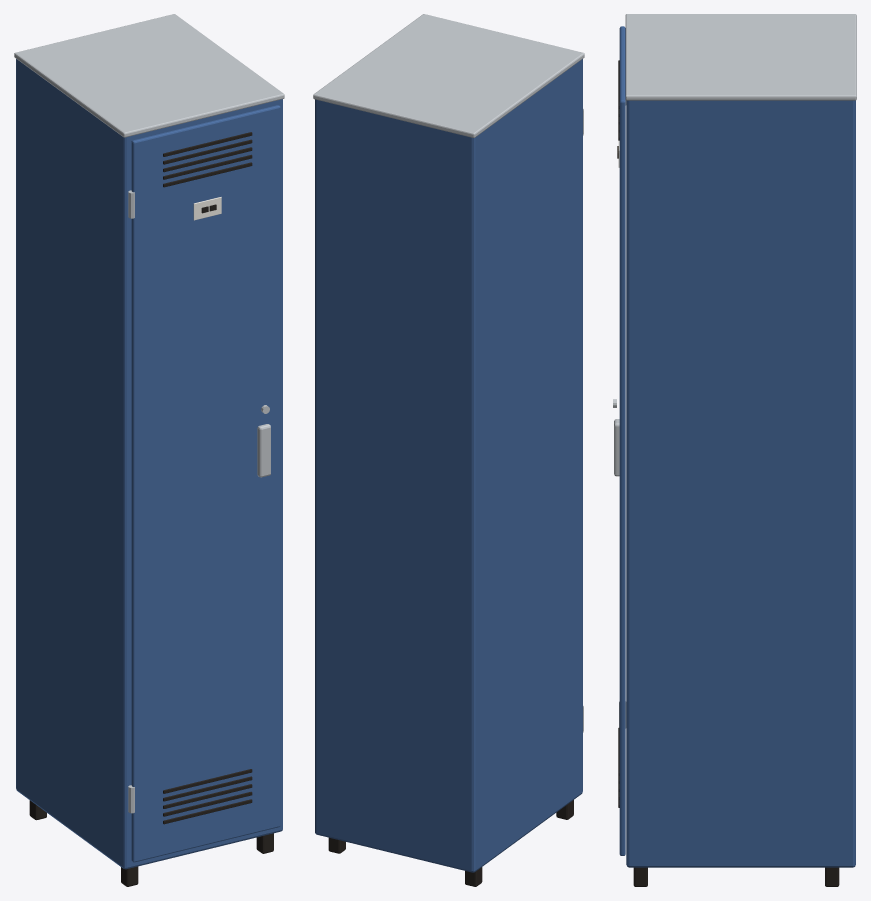
The model's file is hh_cat_locker.glb.
3 renders of one model, left to right at view 1: azimuth 30°, elevation 25°; view 2: azimuth 150°, elevation 25°; view 3: azimuth 270°, elevation 25°, orthographic. The views are drawn at different scales.
Visible parts, largest first — view 1: door, carcass, lid_trim, handle; view 2: carcass, lid_trim; view 3: carcass, lid_trim, door.
Boxes of the visible parts, left/top/right/bottom form: door: left=131, top=105, right=280, bottom=862; carcass: left=16, top=59, right=282, bottom=869; lid_trim: left=14, top=14, right=284, bottom=137; handle: left=257, top=424, right=270, bottom=477; carcass: left=315, top=59, right=582, bottom=872; lid_trim: left=313, top=14, right=584, bottom=137; carcass: left=626, top=100, right=855, bottom=867; lid_trim: left=625, top=14, right=856, bottom=100; door: left=619, top=26, right=625, bottom=855.
Bounding box in the file's own units: 0.4 × 1.8 × 0.5.
